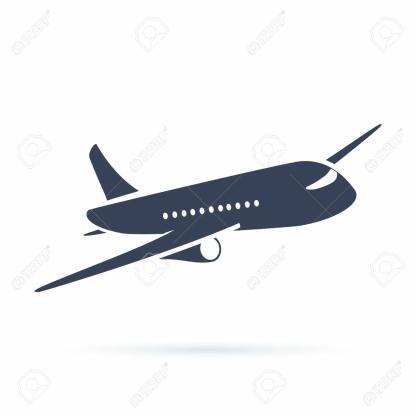CIV_Plane: (30, 124, 386, 307)
